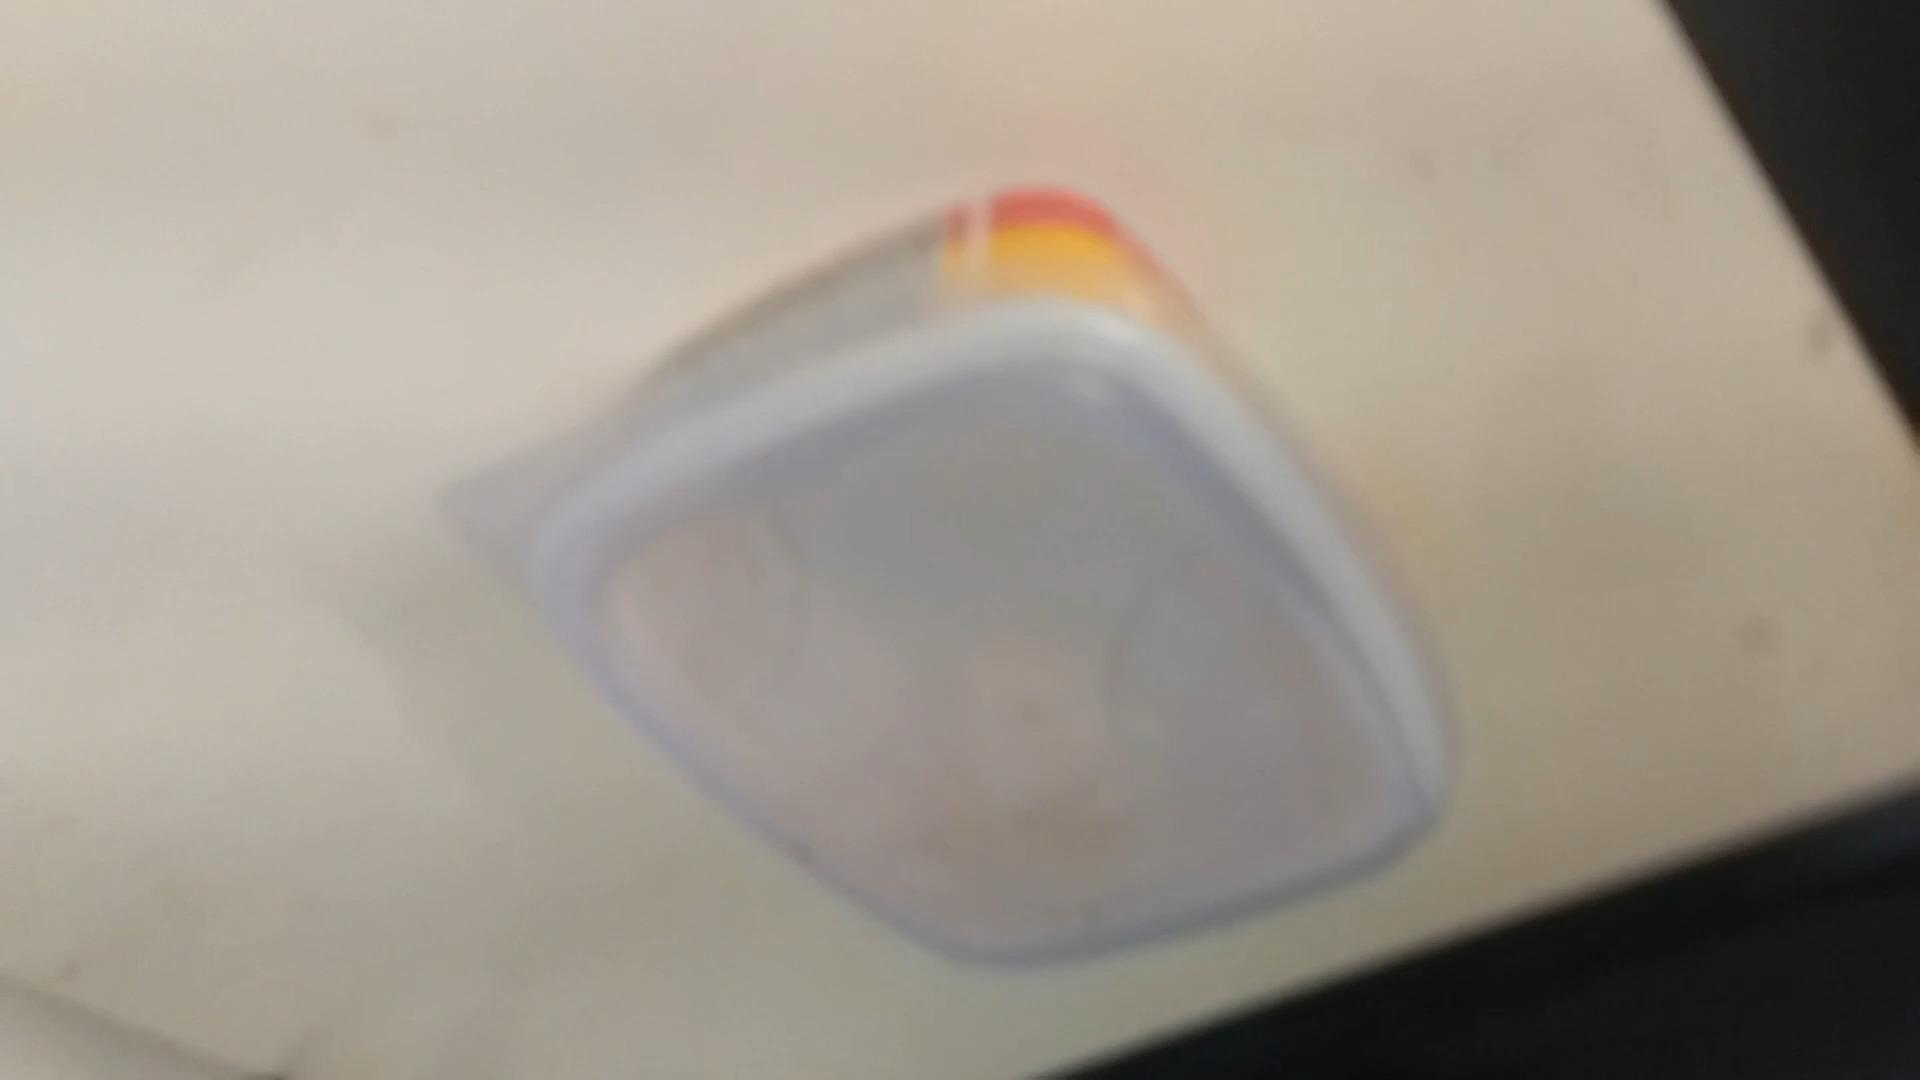butter: (459, 193, 1451, 978)
